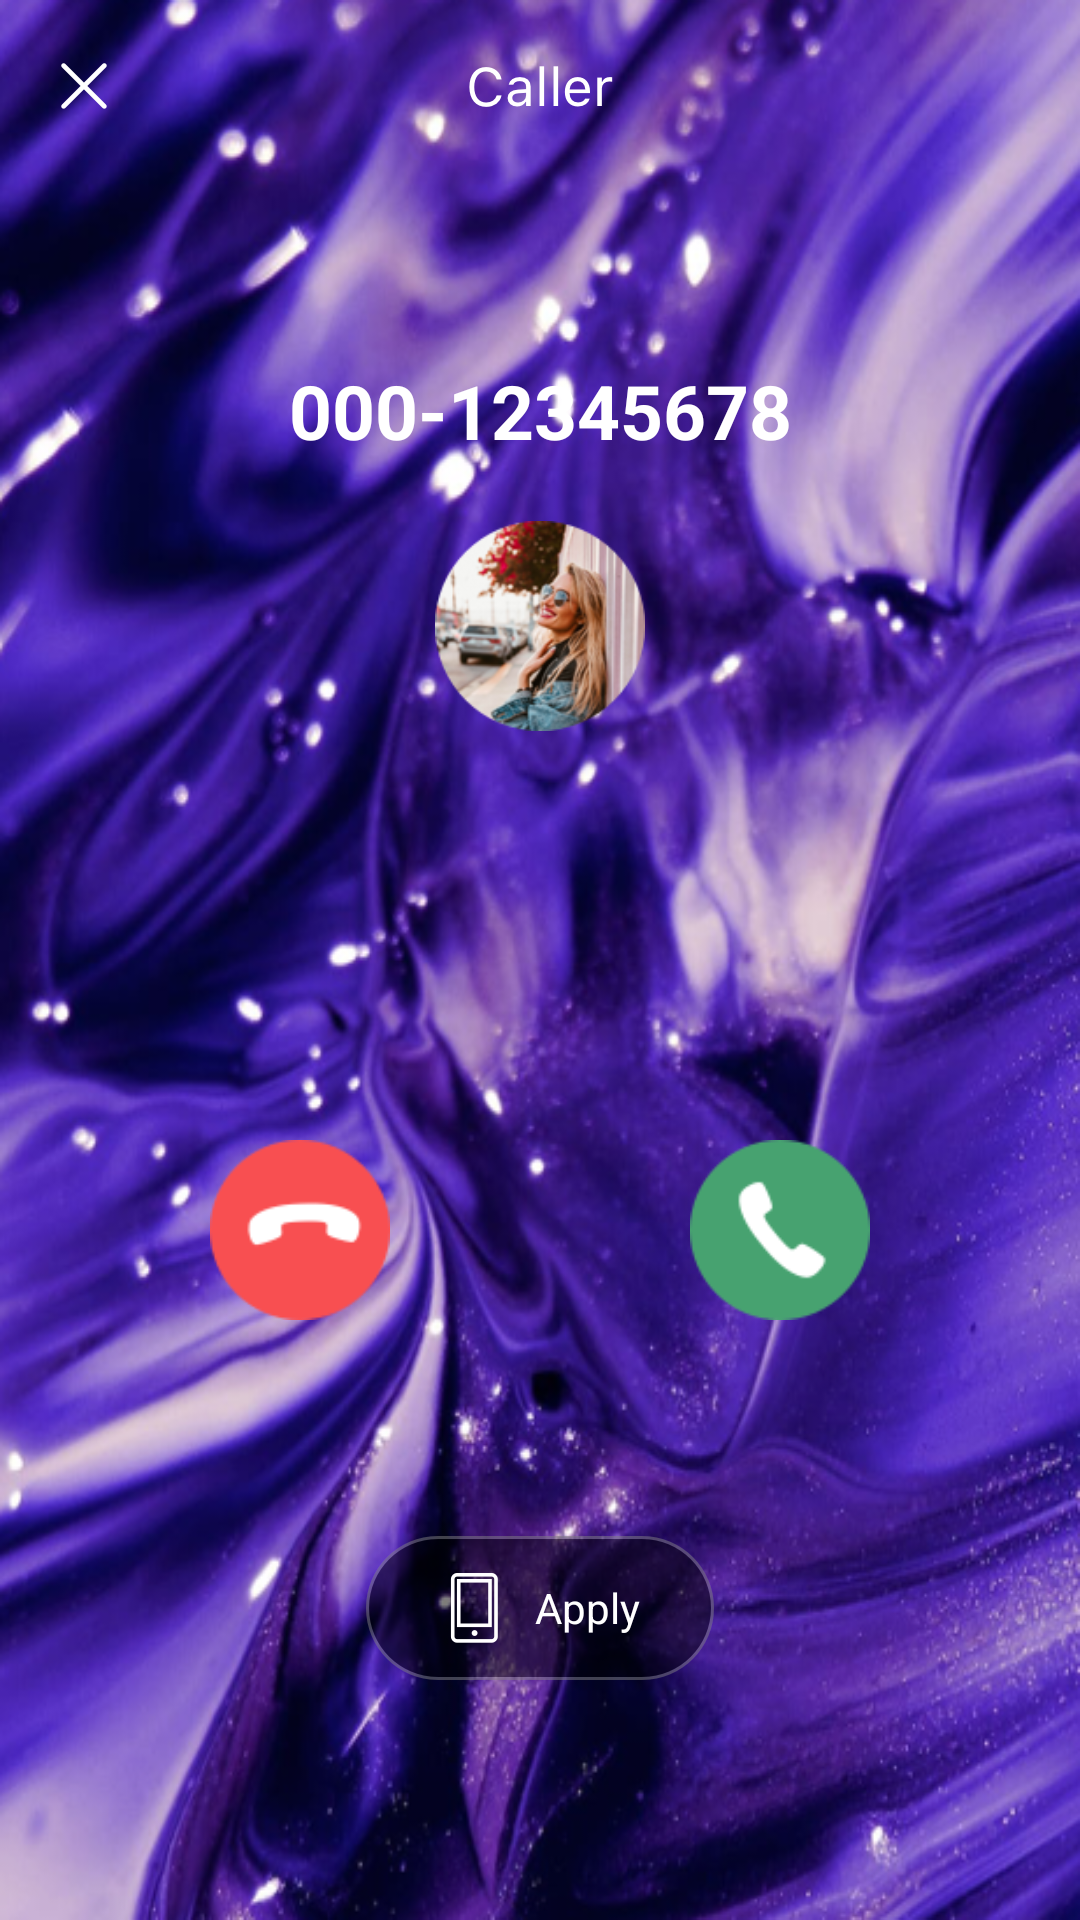

Named icons in this screenshot (1080px×1920px) and their centers, [x,y]:
accpet: [780,1230]
cancel: [84,86]
hangup: [300,1230]
head: [540,626]
phone: [475,1608]
